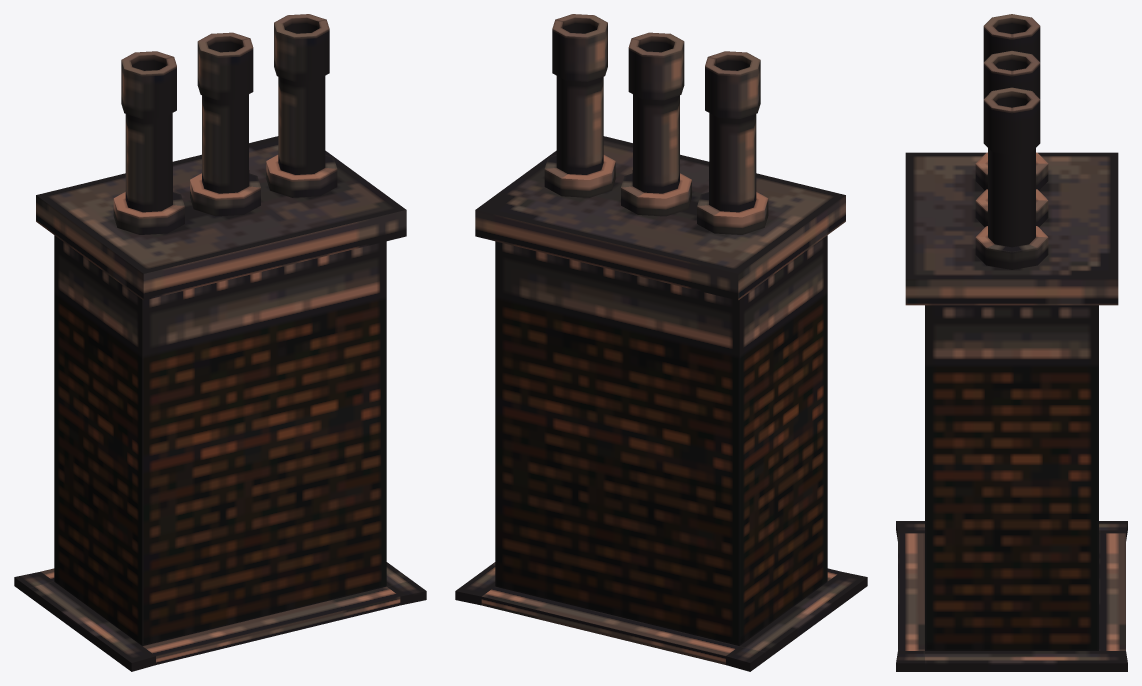
Rendered from EnvBdgMD_Factory_B_Outdoor_Chimney_B.FBX.
The picture shows the model from 3 angles, left to right: view 1: azimuth 30°, elevation 25°; view 2: azimuth 150°, elevation 25°; view 3: azimuth 270°, elevation 25°; orthographic projection.
Parts seen in each view (by area): view 1: EnvBdgMD_Factory_B_Outdoor_Chimney_B; view 2: EnvBdgMD_Factory_B_Outdoor_Chimney_B; view 3: EnvBdgMD_Factory_B_Outdoor_Chimney_B.
Part boxes in pixels (x1=…): EnvBdgMD_Factory_B_Outdoor_Chimney_B: x1=14, y1=14, x2=426, y2=671; EnvBdgMD_Factory_B_Outdoor_Chimney_B: x1=455, y1=14, x2=867, y2=671; EnvBdgMD_Factory_B_Outdoor_Chimney_B: x1=896, y1=14, x2=1127, y2=671.
Size of the model in its own units: 174 by 309 by 120.
